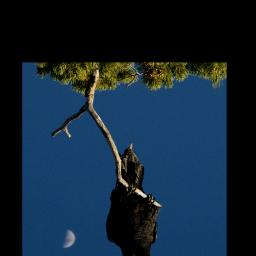Crow: (105, 140, 170, 256)
